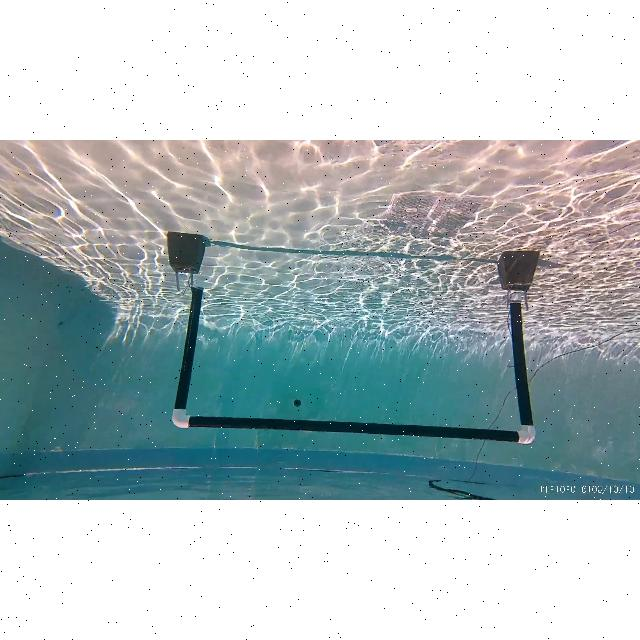prequal gate: (172, 278, 536, 446)
prequal gate leg l: (502, 260, 546, 442)
prequal gate leg r: (165, 232, 205, 424)
